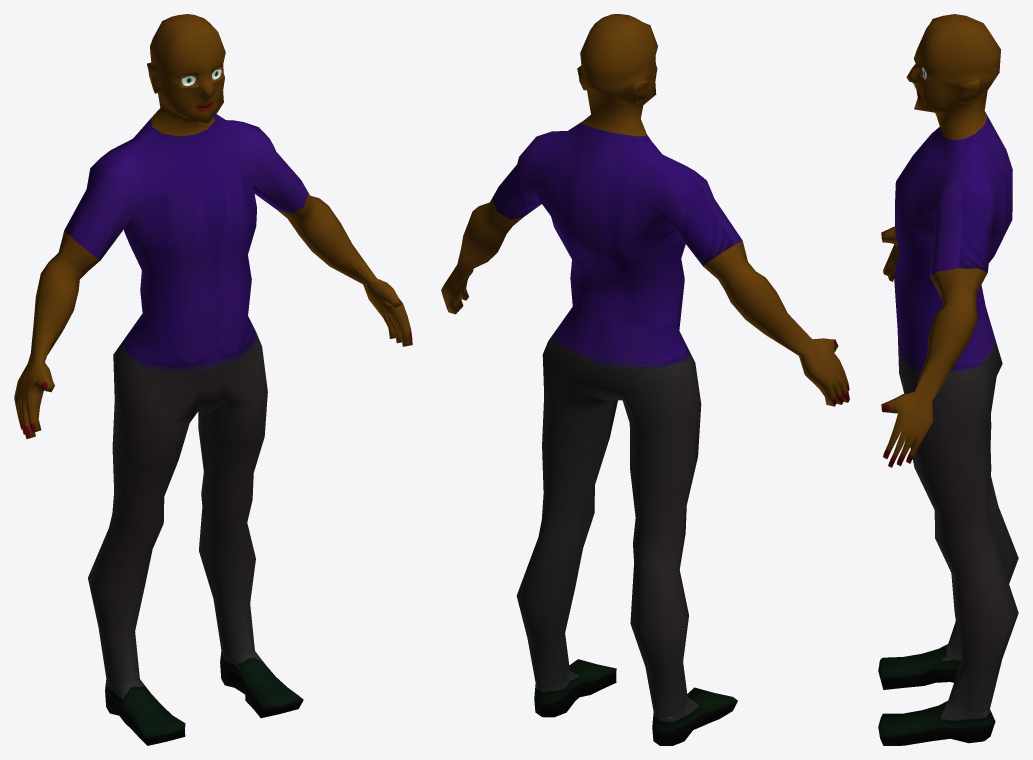
The model's file is Customer2FINISHED.FBX.
3 renders of one model, left to right at view 1: azimuth 30°, elevation 25°; view 2: azimuth 150°, elevation 25°; view 3: azimuth 270°, elevation 25°, orthographic. The views are drawn at different scales.
Visible parts, largest first — view 1: Torso; view 2: Torso; view 3: Torso.
Part boxes in pixels (<box>): Torso: <box>14,14,412,745</box>; Torso: <box>441,14,849,745</box>; Torso: <box>878,14,1018,745</box>.
Size of the model in its own units: 170 by 288 by 52.94.
Materials: 1 (1 with a texture image).
